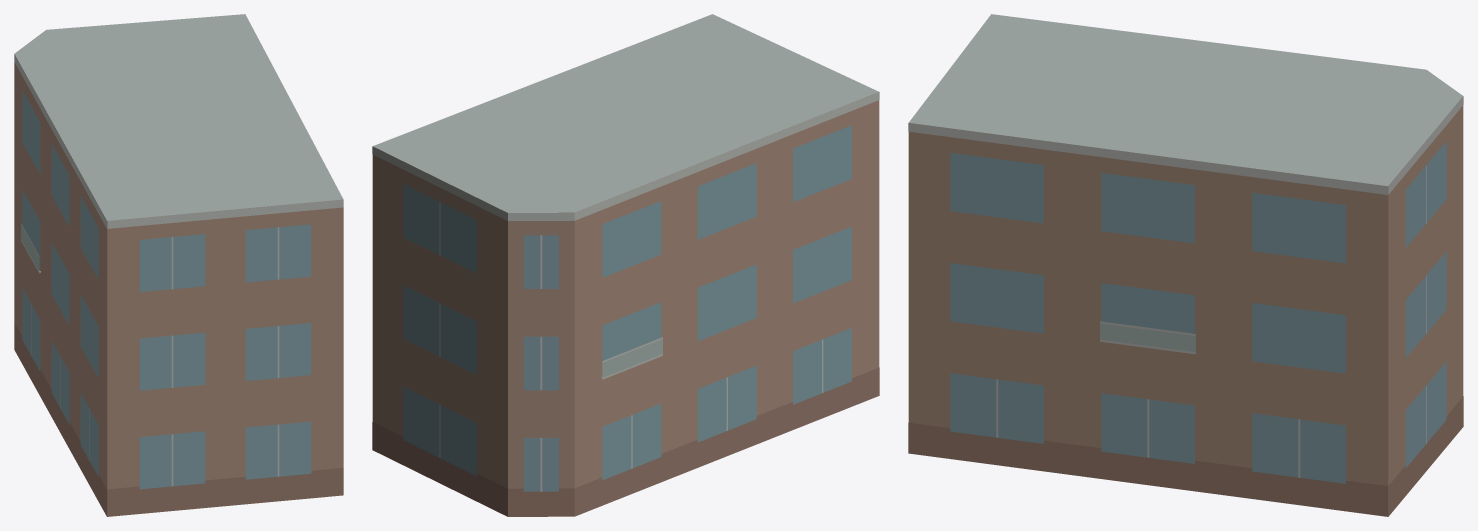
File: survey-upis-32758497.glb
The picture shows the model from 3 angles, left to right: view 1: azimuth 30°, elevation 25°; view 2: azimuth 150°, elevation 25°; view 3: azimuth 270°, elevation 25°; orthographic projection. The views are drawn at different scales.
Parts seen in each view (by area): view 1: survey-upis-32758497.tmp; view 2: survey-upis-32758497.tmp; view 3: survey-upis-32758497.tmp.
Boxes of the visible parts, <box> form: survey-upis-32758497.tmp: <box>14,14,343,516</box>; survey-upis-32758497.tmp: <box>372,14,879,516</box>; survey-upis-32758497.tmp: <box>908,14,1463,516</box>.
Size of the model in its own units: 10.23 by 9.15 by 13.93.
